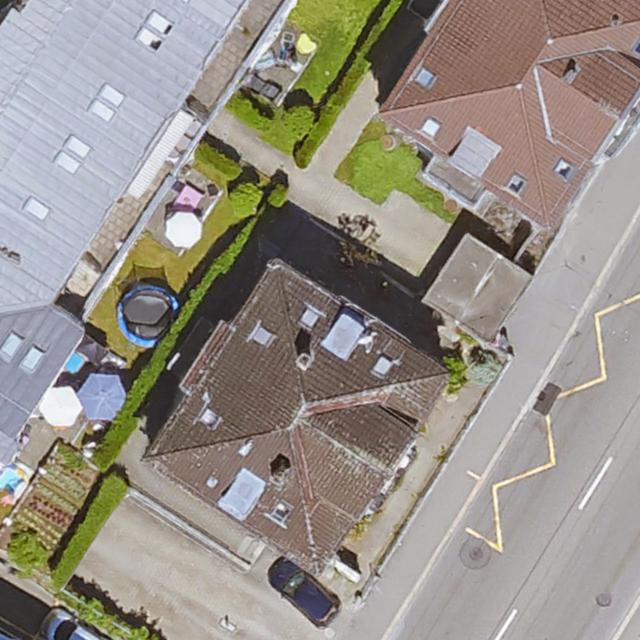tree: (335, 250, 382, 282)
